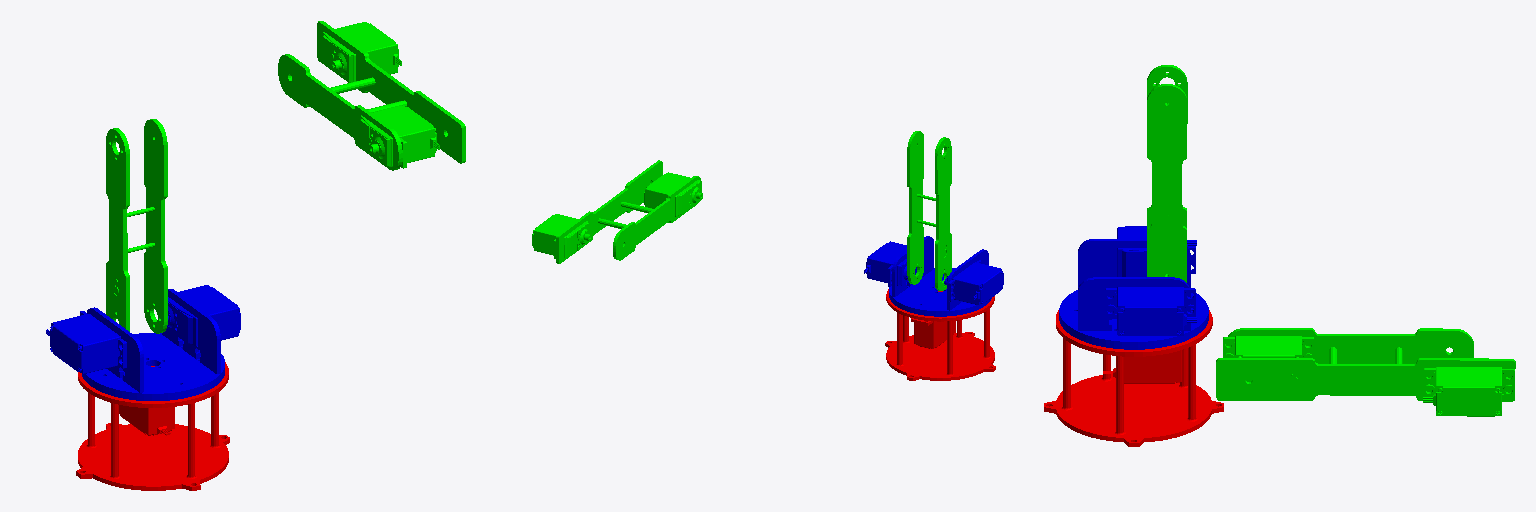
robot.urdf — Seguidor_linea_robot:
<?xml version="1.0" encoding="utf-8"?>
<!-- Este URDF fue creado automáticamente por SolidWorks para el exportador URDF.
     Originalmente creado por Stephen Brawner (brawner@gmail.com)
     Versión de commit: 1.5.1-0-g916b5db  Versión de compilación: 1.5.7152.31018
     Para más información, visita: http://wiki.ros.org/sw_urdf_exporter -->
<robot name="Seguidor_linea_robot">
    <!-- Elemento raíz que define el robot, nombrado "Seguidor_linea_robot" -->

    <link name="world"/>
    <!-- Define el link del mundo, que sirve como referencia global para el robot -->

    <link name="base_link">
        <!-- Link principal del robot -->
        <visual>
            <geometry>
                <mesh filename="package://modelo_robot/meshes/Ensamble_1.stl"/>
                <!-- Carga un modelo 3D del link desde un archivo STL -->
            </geometry>
            <material name="">
                <color rgba="1 0 0 1" />
                <!-- Define el color del link como rojo, opaco -->
            </material>
        </visual> 
    </link>

    <link name="Link_1">
        <!-- Primer link del robot -->
        <visual>
            <geometry>
                <mesh filename="package://modelo_robot/meshes/Ensamble_2.stl"/>
                <!-- Carga el modelo 3D del Link_1 desde un archivo STL -->
            </geometry>
            <material name="">
                <color rgba="0 0 1 1" />
                <!-- Define el color del link como azul, opaco -->
            </material>
        </visual> 
        <collision>
            <geometry>
                <mesh filename="package://modelo_robot/meshes/Ensamble_2.stl"/>
                <!-- Define la geometría para la colisión usando el mismo modelo -->
            </geometry>
        </collision>
    </link>

    <link name="Link_2">
        <!-- Segundo link del robot -->
        <visual>
            <geometry>
                <mesh filename="package://modelo_robot/meshes/Ensamble_3.stl"/>
                <!-- Carga el modelo 3D del Link_2 desde un archivo STL -->
            </geometry>
            <material name="">
                <color rgba="0 1 0 0.5" />
                <!-- Define el color del link como verde, semi-transparente -->
            </material>
        </visual>
        <collision>
            <geometry>
                <mesh filename="package://modelo_robot/meshes/Ensamble_3.stl"/>
                <!-- Define la geometría para la colisión usando el mismo modelo -->
            </geometry>
        </collision>
    </link>

    <link name="Link_3">
        <!-- Tercer link del robot -->
        <visual>
            <geometry>
                <mesh filename="package://modelo_robot/meshes/Ensamble_4.stl"/>
                <!-- Carga el modelo 3D del Link_3 desde un archivo STL -->
            </geometry>
            <material name="">
                <color rgba="0 1 0 0.5" />
                <!-- Define el color del link como verde, semi-transparente -->
            </material>
        </visual>
        <collision>
            <geometry>
                <mesh filename="package://modelo_robot/meshes/Ensamble_4.stl"/>
                <!-- Define la geometría para la colisión usando el mismo modelo -->
            </geometry>
        </collision>
    </link>

    <joint name="fixed" type="fixed">
        <!-- Joint que conecta el mundo con el base_link, sin movimiento -->
        <parent link="world"/>
        <child link="base_link"/>
        <origin xyz="0 0 -20" rpy="0 0 0"/>
        <!-- Define la posición del joint en coordenadas (x, y, z) y orientación (roll, pitch, yaw) -->
        <axis xyz="0 0 1" />
        <!-- El eje de rotación es el eje Z -->
    </joint>

    <joint name="Eslabon_Base" type="revolute">
        <!-- Joint que permite el movimiento entre base_link y Link_1 -->
        <parent link="base_link"/>
        <child link="Link_1"/>
        <origin xyz="0 0 20" rpy="0 0 0"/>
        <!-- Define la posición del joint -->
        <axis xyz="0 0 1"/>
        <!-- El eje de rotación es el eje Z -->
        <!-- Este link tiene su eje en Z y va desde -90 a 90 grados -->
        <limit lower="-1.57" upper="1.57" effort="0" velocity="0.5"/>
        <!-- Define los límites de rotación, esfuerzo y velocidad del joint -->
    </joint>

    <joint name="Eslabon_1" type="revolute">
        <!-- Joint que permite el movimiento entre Link_1 y Link_2 -->
        <parent link="Link_1"/>
        <child link="Link_2"/>
        <origin xyz="13.5 20 28" rpy="0 0 0"/> 
        <!-- Define la posición del joint -->
        <axis xyz="1 0 0"/>
        <!-- El eje de rotación es el eje X -->
        <!-- Este link tiene su eje en X y va desde 90 a 270 grados -->
        <limit lower="1.57" upper="4.71" effort="0" velocity="0.5"/>
        <!-- Define los límites de rotación, esfuerzo y velocidad del joint -->
    </joint>

    <joint name="Eslabon_2" type="revolute">
        <!-- Joint que permite el movimiento entre Link_2 y Link_3 -->
        <parent link="Link_2"/>
        <child link="Link_3"/>
        <origin xyz="-50 -50 -50" rpy="0 0 0"/> 
        <!-- Define la posición del joint -->
        <axis xyz="1 0 0"/>
        <!-- El eje de rotación es el eje X -->
        <!-- Este link tiene su eje en X y va desde 90 a 270 grados -->
        <limit lower="1.57" upper="4.71" effort="0" velocity="0.5"/>
        <!-- Define los límites de rotación, esfuerzo y velocidad del joint -->
    </joint>

  <!--
  <link
    name="base_link">
    <inertial>
      <origin
        xyz="0.010085 -7.8763E-06 -0.0066048"
        rpy="0 0 0" />
      <mass
        value="0.12859" />
      <inertia
        ixx="5.2146E-05"
        ixy="-1.2223E-19"
        ixz="2.9403E-20"
        iyy="0.00017957"
        iyz="1.8099E-14"
        izz="0.00022799" />
    </inertial>
    <visual>
      <origin
        xyz="0 0 0"
        rpy="0 0 0" />
      <geometry>
        <mesh
          filename="package://modelo_robot/meshes/base_link.STL" />
      </geometry>
      <material
        name="">
        <color
          rgba="1 1 1 0.3" />
      </material>
    </visual>
    <collision>
      <origin
        xyz="0 0 0"
        rpy="0 0 0" />
      <geometry>
        <mesh
          filename="package://modelo_robot/meshes/base_link.STL" />
      </geometry>
    </collision>
  </link>

  <link
    name="Rueda_izquierda_link">
    <inertial>
      <origin
        xyz="8.9146E-10 -3.2512E-08 -0.011873"
        rpy="0 0 0" />
      <mass
        value="0.021404" />
      <inertia
        ixx="8.6283E-06"
        ixy="-6.4381E-11"
        ixz="-1.062E-13"
        iyy="8.6269E-06"
        iyz="-9.8999E-12"
        izz="1.4515E-05" />
    </inertial>
    <visual>
      <origin
        xyz="0 0 0"
        rpy="0 0 0" />
      <geometry>
        <mesh
          filename="package://modelo_robot/meshes/Rueda_izquierda_link.STL" />
      </geometry>
      <material
        name="">
        <color
          rgba="0.79216 0.81961 0.93333 1" />
      </material>
    </visual>
    <collision>
      <origin
        xyz="0 0 0"
        rpy="0 0 0" />
      <geometry>
        <mesh
          filename="package://modelo_robot/meshes/Rueda_izquierda_link.STL" />
      </geometry>
    </collision>
  </link>

  <joint
    name="Rueda_izquierda_joint"
    type="continuous">
    <origin
      xyz="-0.033259 0.08025 -0.01375"
      rpy="-1.5708 0.042481 0" />
    <parent
      link="base_link" />
    <child
      link="Rueda_izquierda_link" />
    <axis
      xyz="0 0 1" />
    <limit
      effort="100"
      velocity="100" />
    <dynamics
      damping="0.1"
      friction="0.1" />
  </joint>

  <link
    name="Rueda_derecha_link">
    <inertial>
      <origin
        xyz="-8.9146E-10 -3.2512E-08 0.011873"
        rpy="0 0 0" />
      <mass
        value="0.021404" />
      <inertia
        ixx="8.6283E-06"
        ixy="6.4381E-11"
        ixz="-1.062E-13"
        iyy="8.6269E-06"
        iyz="9.8999E-12"
        izz="1.4515E-05" />
    </inertial>
    <visual>
      <origin
        xyz="0 0 0"
        rpy="0 0 0" />
      <geometry>
        <mesh
          filename="package://modelo_robot/meshes/Rueda_derecha_link.STL" />
      </geometry>
      <material
        name="">
        <color
          rgba="0.79216 0.81961 0.93333 1" />
      </material>
    </visual>
    <collision>
      <origin
        xyz="0 0 0"
        rpy="0 0 0" />
      <geometry>
        <mesh
          filename="package://modelo_robot/meshes/Rueda_derecha_link.STL" />
      </geometry>
    </collision>
  </link>
  <joint
    name="Rueda_derecha_joint"
    type="continuous">
    <origin
      xyz="-0.033259 -0.08025 -0.01375"
      rpy="1.5708 0.042481 -3.1416" />
    <parent
      link="base_link" />
    <child
      link="Rueda_derecha_link" />
    <axis
      xyz="0 0 1" />
    <limit
      effort="100"
      velocity="100" />
    <dynamics
      damping="0.1"
      friction="0.1" />
  </joint>
  <link
    name="Base_castor_link">
    <inertial>
      <origin
        xyz="0 0 0"
        rpy="0 0 0" />
      <mass
        value="0.002" />
      <inertia
        ixx="0.0001"
        ixy="0"
        ixz="0"
        iyy="0.0001"
        iyz="0"
        izz="0.0001" />
    </inertial>
    <visual>
      <origin
        xyz="0 0 0"
        rpy="0 0 0" />
      <geometry>
        <mesh
          filename="package://modelo_robot/meshes/Base_castor_link.STL" />
      </geometry>
      <material
        name="">
        <color
          rgba="1 1 1 1" />
      </material>
    </visual>
    <collision>
      <origin
        xyz="0 0 0"
        rpy="0 0 0" />
      <geometry>
        <mesh
          filename="package://modelo_robot/meshes/Base_castor_link.STL" />
      </geometry>
    </collision>
  </link>
  <joint
    name="Base_castor_joint"
    type="continuous">
    <origin
      xyz="0.072581 0 -0.0025"
      rpy="-3.1408 0 0" />
    <parent
      link="base_link" />
    <child
      link="Base_castor_link" />
    <axis
      xyz="0 0 1" />
    <limit
      effort="100"
      velocity="100" />
    <dynamics
      damping="0.1"
      friction="0.1" />
  </joint>
  <link
    name="Rueda_castor_link">
    <inertial>
      <origin
        xyz="6.93889390390723E-18 -2.62037475051713E-11 -2.77710070911708E-09"
        rpy="0 0 0" />
      <mass
        value="0.00828739992319076" />
      <inertia
        ixx="6.3926680927577E-07"
        ixy="-7.31657239076889E-23"
        ixz="4.99800544060975E-23"
        iyy="6.39299912774584E-07"
        iyz="3.50834634007177E-09"
        izz="1.01108533248037E-06" />
    </inertial>
    <visual>
      <origin
        xyz="0 0 0"
        rpy="0 0 0" />
      <geometry>
        <mesh
          filename="package://modelo_robot/meshes/Rueda_castor_link.STL" />
      </geometry>
      <material
        name="">
        <color
          rgba="1 1 1 1" />
      </material>
    </visual>
    <collision>
      <origin
        xyz="0 0 0"
        rpy="0 0 0" />
      <geometry>
        <mesh
          filename="package://modelo_robot/meshes/Rueda_castor_link.STL" />
      </geometry>
    </collision>
  </link>
  <joint
    name="Rueda_castor_joint"
    type="continuous">
    <origin
      xyz="0.015014 -0.00012272 0.02296"
      rpy="0 -1.57 1.5708" />
    <parent
      link="Base_castor_link" />
    <child
      link="Rueda_castor_link" />
    <axis
      xyz="0 0 1" />
    <limit
      effort="100"
      velocity="100" />
    <dynamics
      damping="0.1"
      friction="0.1" />
  </joint>
  -->
</robot>

--- Render facts (derived) ---
The picture shows the robot from 3 angles, left to right: view 1: azimuth 30°, elevation 25°; view 2: azimuth 150°, elevation 25°; view 3: azimuth 270°, elevation 25°; orthographic projection.
Model Seguidor_linea_robot with 5 links and 4 joints (3 revolute, 1 fixed), rooted at world, posed joints at zero except 2 at the middle of their limits (Eslabon_1 = 3.14, Eslabon_2 = 3.14).
Links seen in each view (by area): view 1: Link_1, Link_3, base_link, Link_2; view 2: Link_3, Link_1, base_link, Link_2; view 3: Link_3, base_link, Link_1, Link_2.
Link boxes in pixels (left/top/right/bottom): Link_1: left=46, top=285, right=240, bottom=400; Link_3: left=278, top=21, right=465, bottom=170; base_link: left=76, top=362, right=229, bottom=490; Link_2: left=106, top=119, right=167, bottom=333; Link_3: left=532, top=160, right=702, bottom=263; Link_1: left=864, top=236, right=1003, bottom=316; base_link: left=885, top=289, right=995, bottom=380; Link_2: left=907, top=131, right=951, bottom=290; Link_3: left=1216, top=328, right=1515, bottom=416; base_link: left=1044, top=310, right=1223, bottom=446; Link_1: left=1059, top=226, right=1208, bottom=349; Link_2: left=1147, top=65, right=1187, bottom=282.
Bounding box of the posed robot: 344 × 287 × 224 m (x, y, z).
Meshes: 4 distinct files referenced, 4 mesh visuals loaded (4 binary STL).
